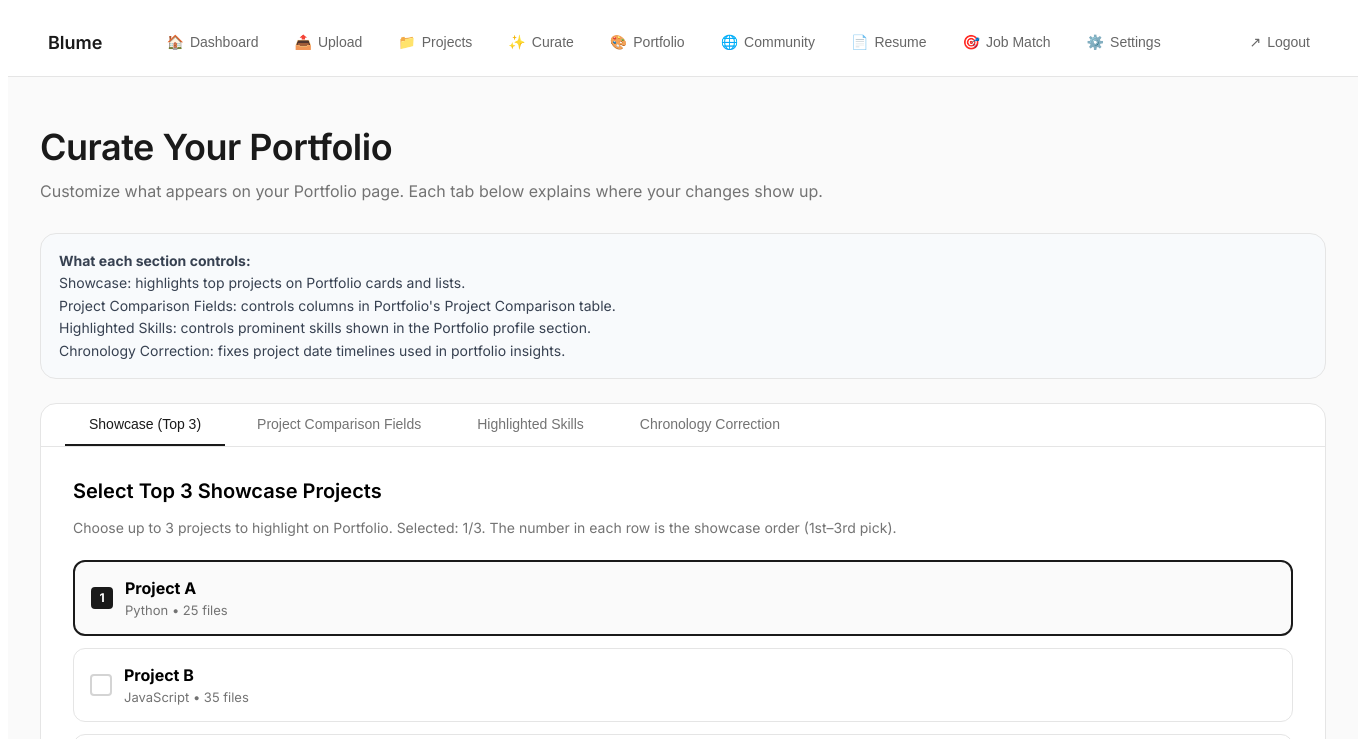
Test: CuratePage › Chronology Tab › displays save button after editing dates
The image size is (1366, 739).
Click the button "Chronology Correction" at coordinates (710, 425), box [616,404,804,446]
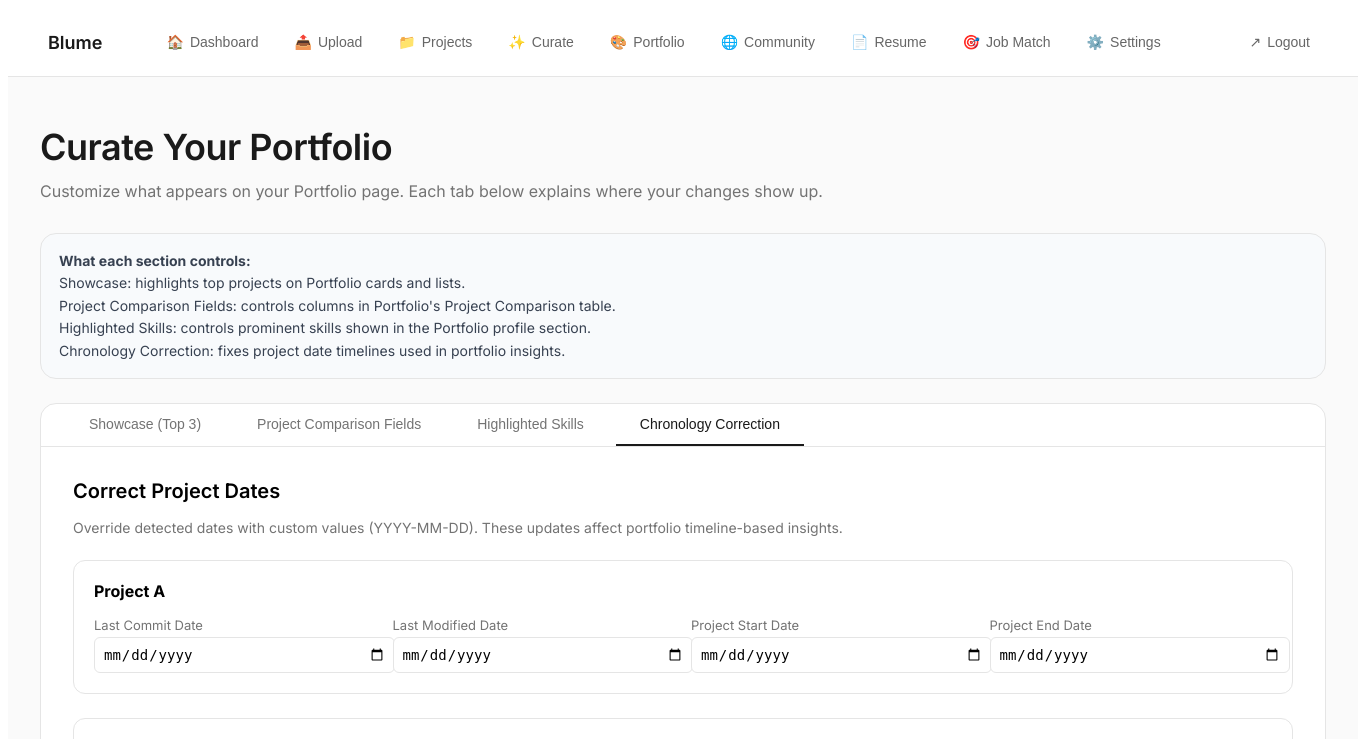
Expected: the date field labelled "Last Commit Date" is shown
// Trigger a change to make save button appear
Type "2024-01-01" into the date field labelled "Last Commit Date" at coordinates (244, 655), box [94,637,394,673]
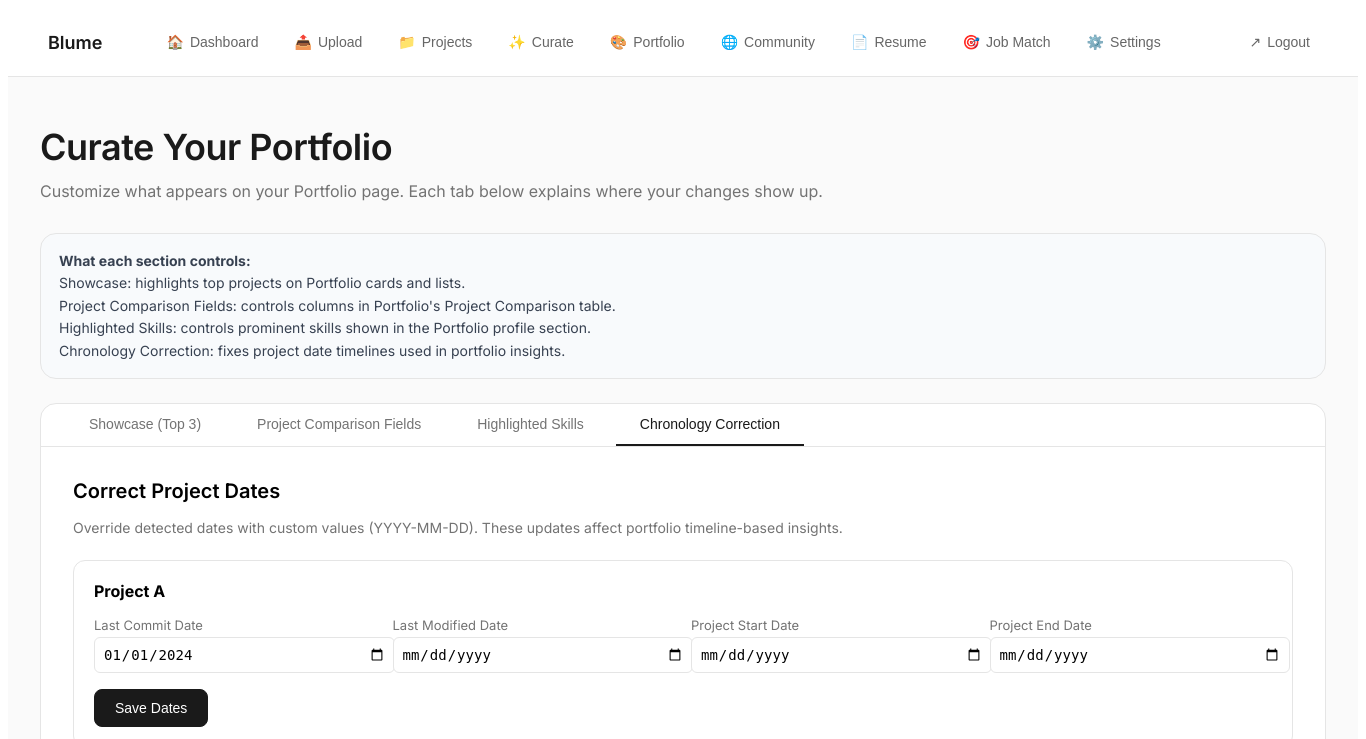
Expected: the button "Save Dates" is shown, [94,689,208,727]
